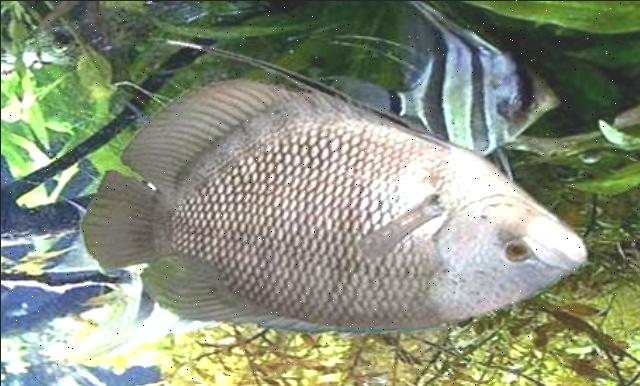Mulut: (512, 201, 608, 285)
Sirip Anal: (113, 70, 290, 192)
Sirip Dada: (74, 152, 172, 280), (347, 177, 457, 268)
Sirip Punggung: (134, 236, 346, 344)
